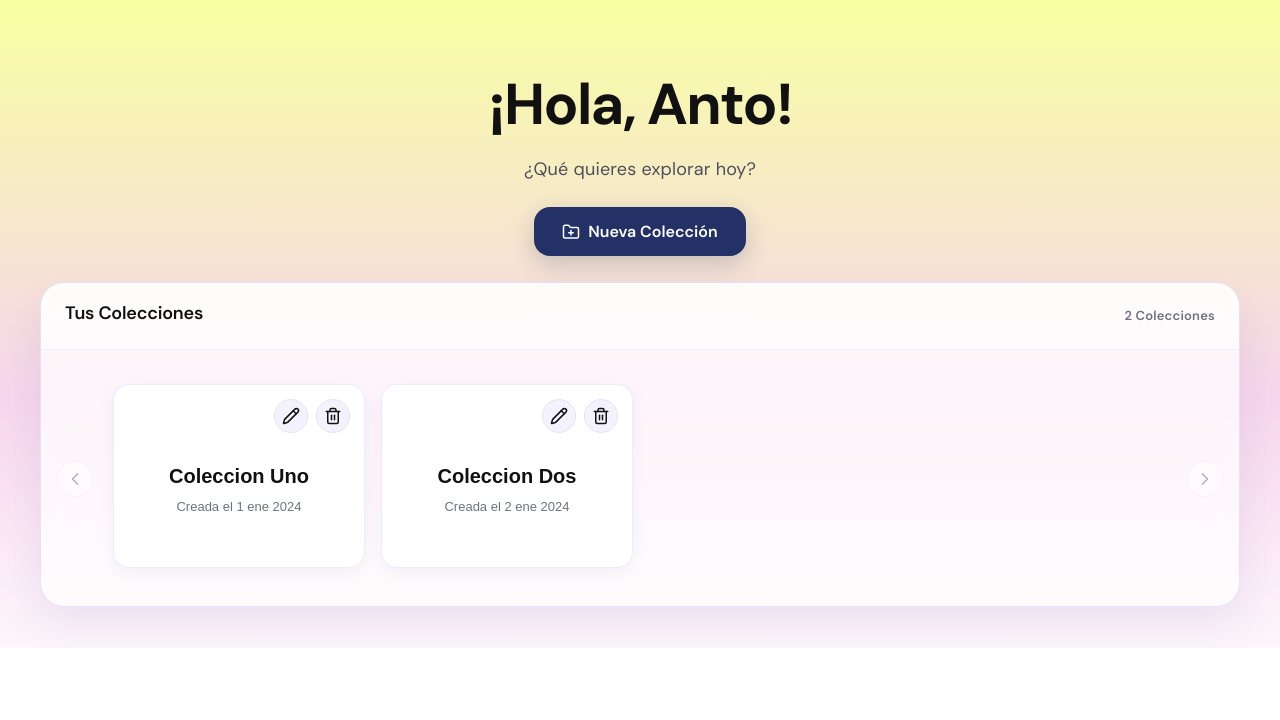
LandingPage › muestra error si falla edicion de coleccion
Expected: the heading "Coleccion Uno" is shown, [169, 464, 309, 489]
Click the 1st button named "editar colecci" at (291, 416), box [274, 399, 308, 433]
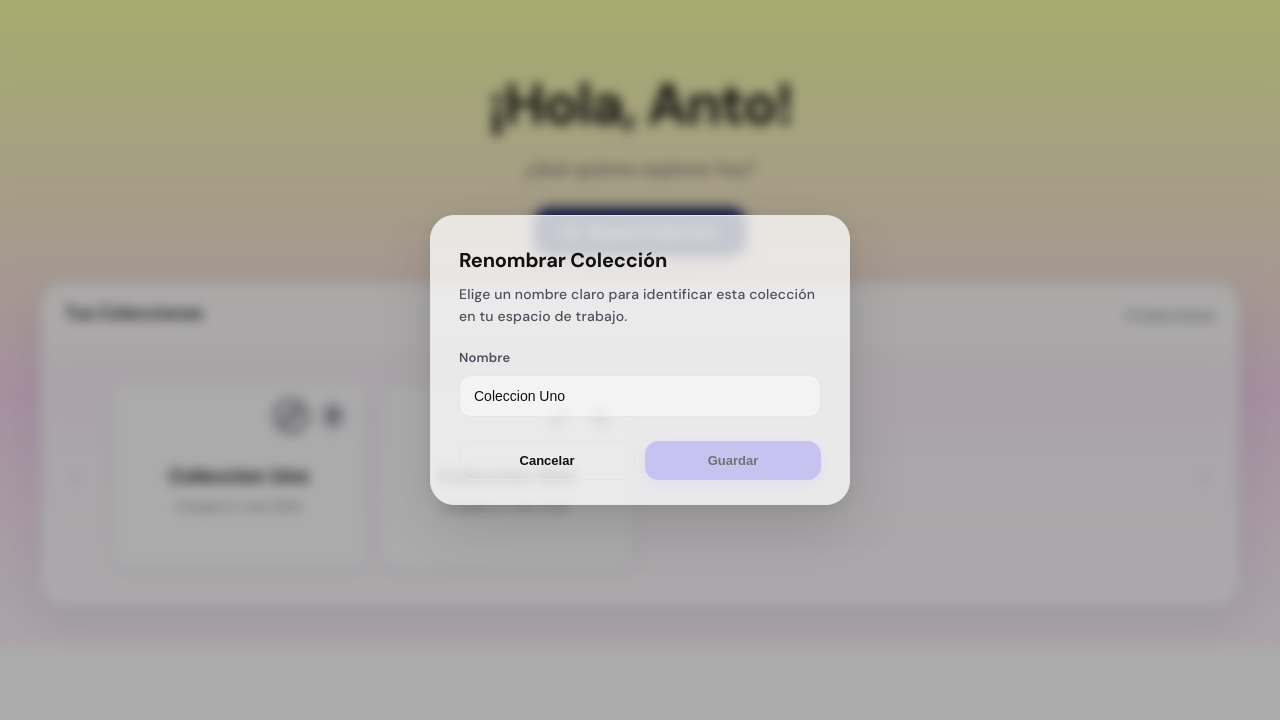
Replace the text in the field labelled "Nombre" with "Nuevo nombre" at (640, 396), box [459, 375, 821, 417]
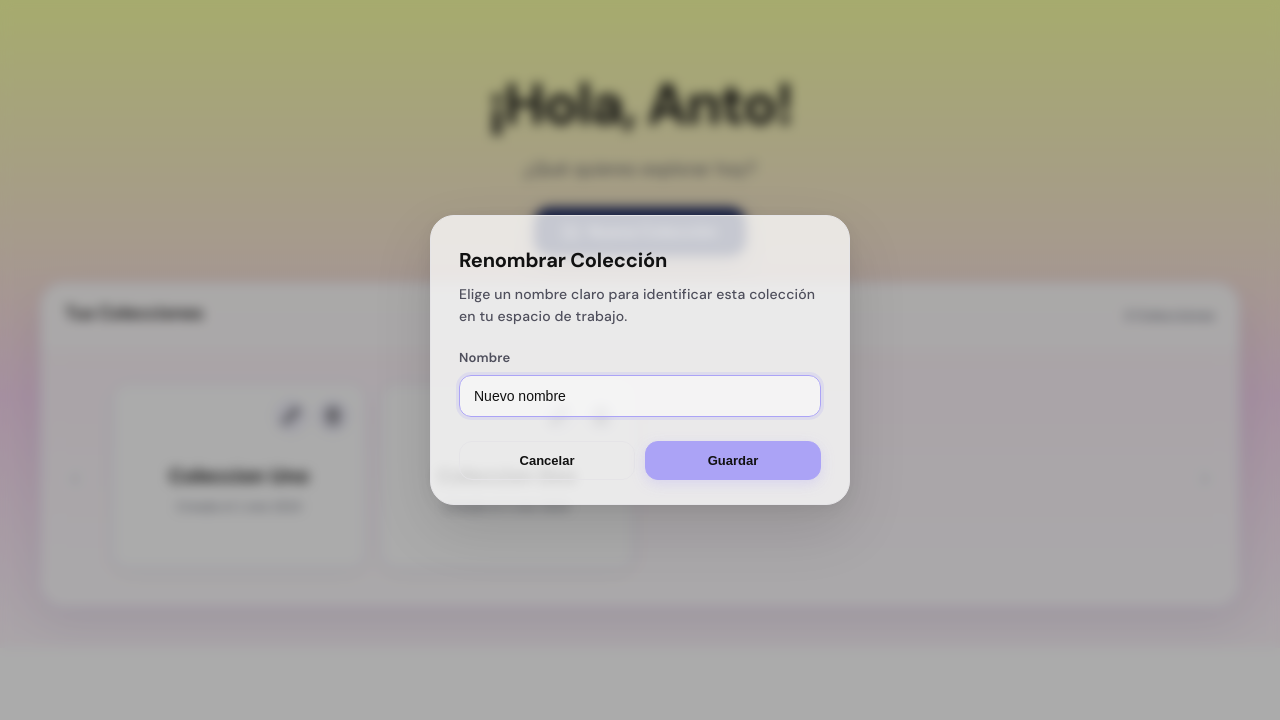
Click the button "Guardar" at (733, 461), box [645, 441, 821, 480]
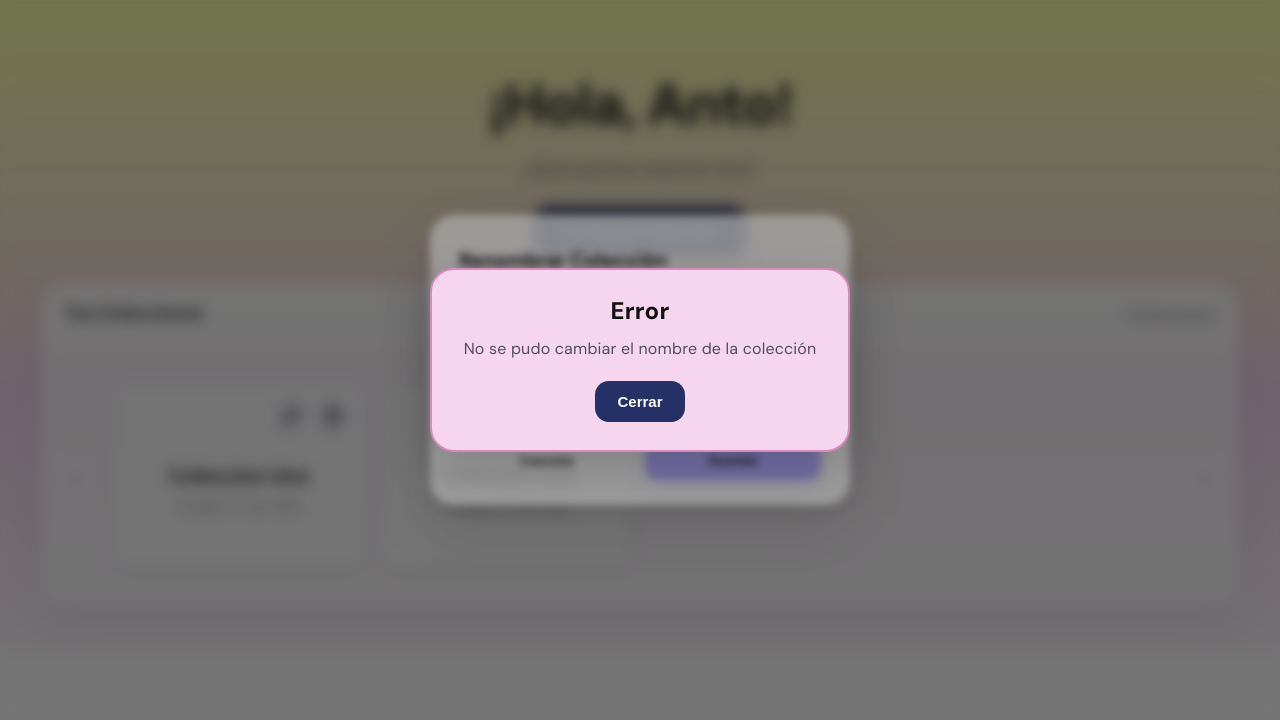
Expected: the text "No se pudo cambiar el nombre de la colección" is shown, [456, 336, 824, 360]
